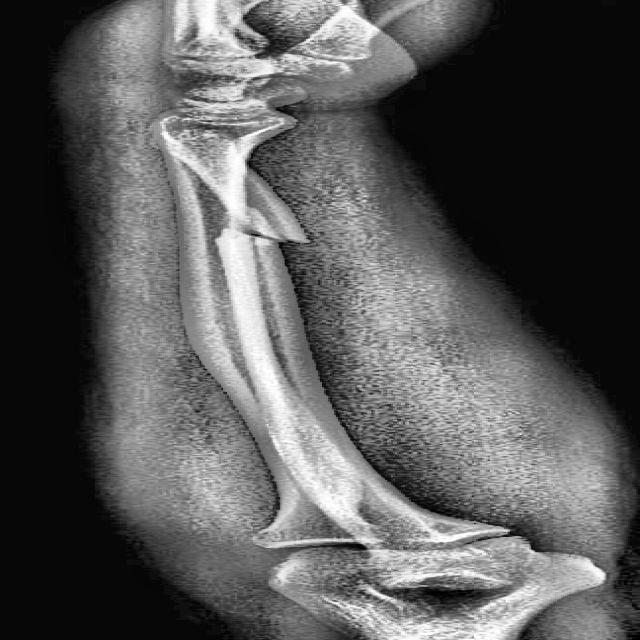messed_up_angle: (206, 225, 312, 251)
